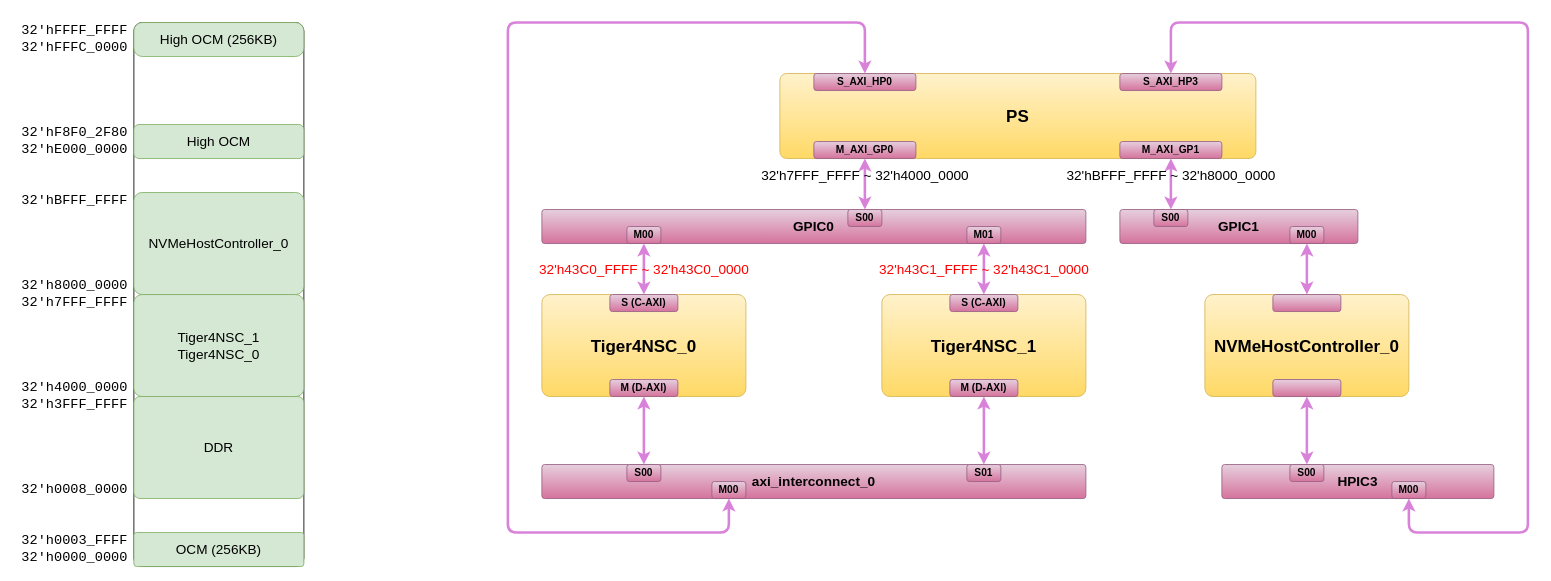
The diagram is 1551 pixels wide and 581 high, and some of its shapes have lost their labels. Each missing label, with the centre of its shape:
M0-AXI: the point at 1306,388
S0-AXI: the point at 1306,303
